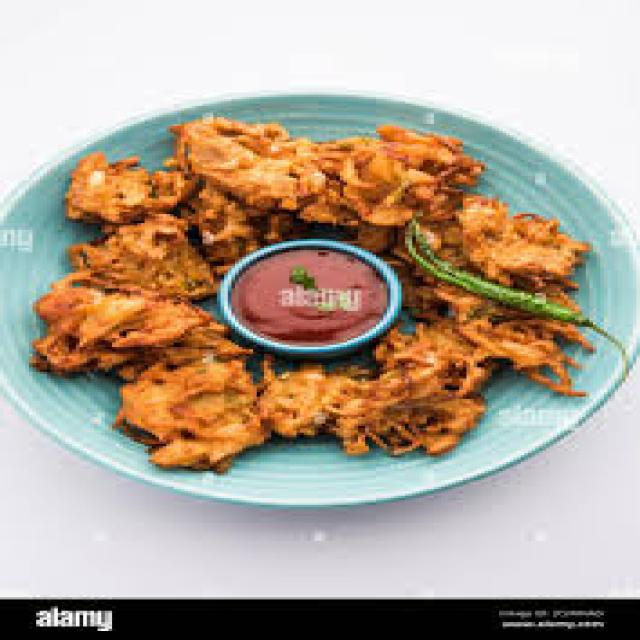BAJI: (23, 119, 598, 475)
